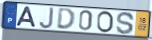0: (78, 9, 94, 32)
A: (15, 6, 37, 28)
D: (55, 8, 76, 32)
J: (39, 7, 55, 30)
O: (96, 10, 115, 34)
S: (115, 11, 136, 36)
